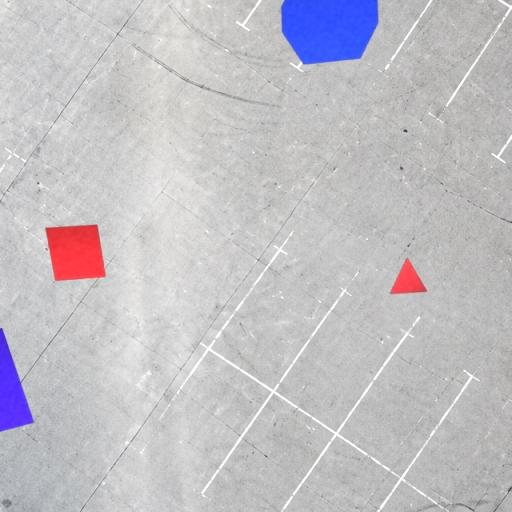RED_SQUARE: (45, 224, 106, 282)
